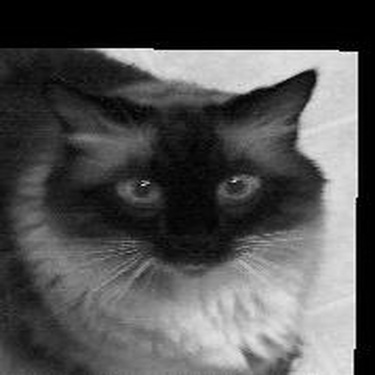cat: (4, 46, 325, 371)
